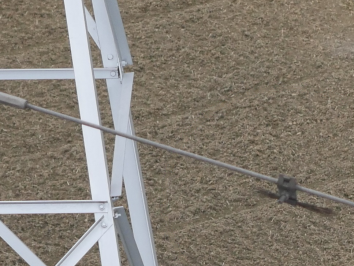damper_defect: (251, 173, 338, 220)
